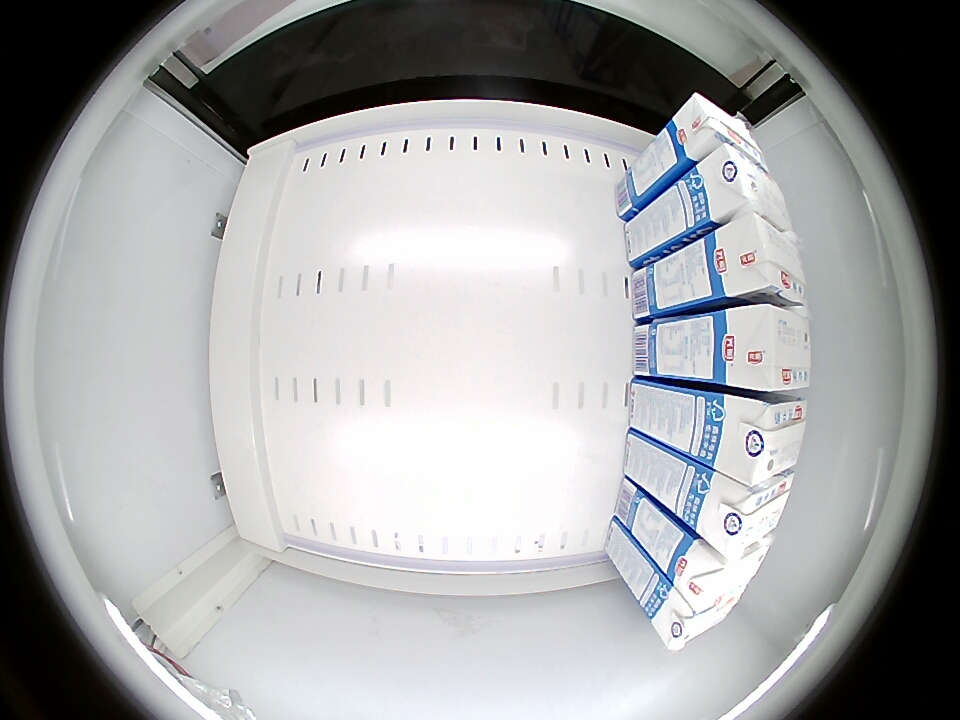niunai: (710, 213, 806, 306), (698, 142, 793, 233), (715, 394, 808, 486), (700, 469, 794, 559), (718, 304, 811, 392), (672, 536, 770, 615), (674, 92, 766, 168), (652, 584, 742, 651)
